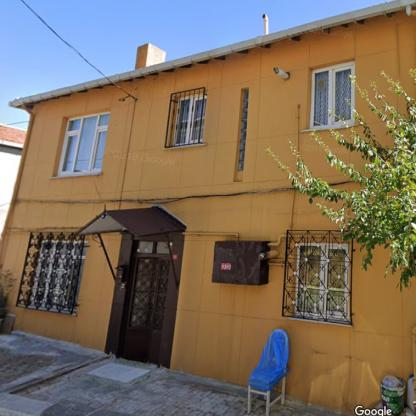door: (121, 243, 167, 361)
window: (32, 242, 82, 309), (298, 246, 344, 314), (62, 113, 108, 172), (313, 67, 352, 124), (176, 97, 204, 143)
